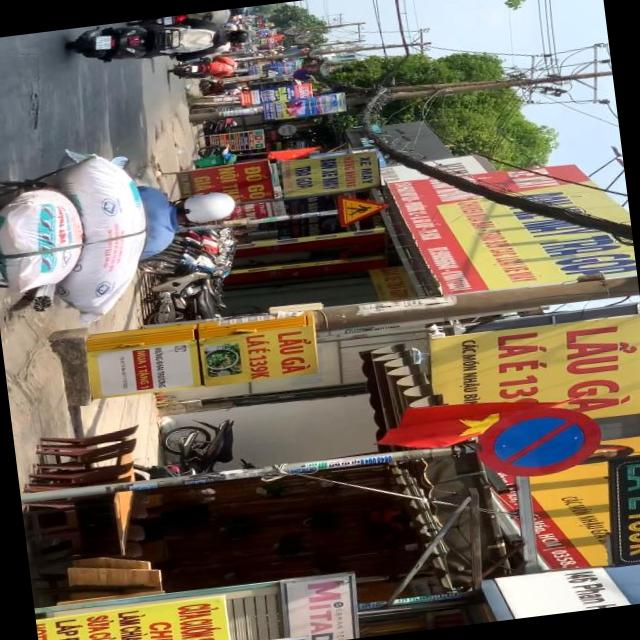P-131a: (471, 401, 606, 484)
W-224: (336, 190, 390, 226)
